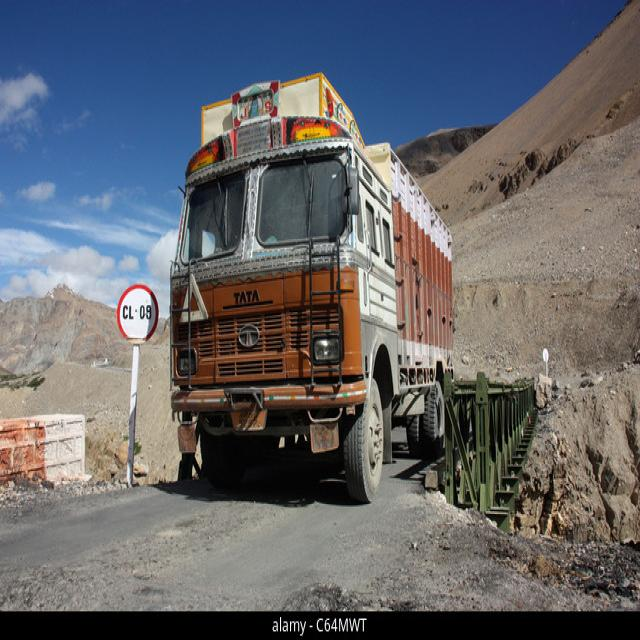normal_truck: (169, 73, 455, 505)
